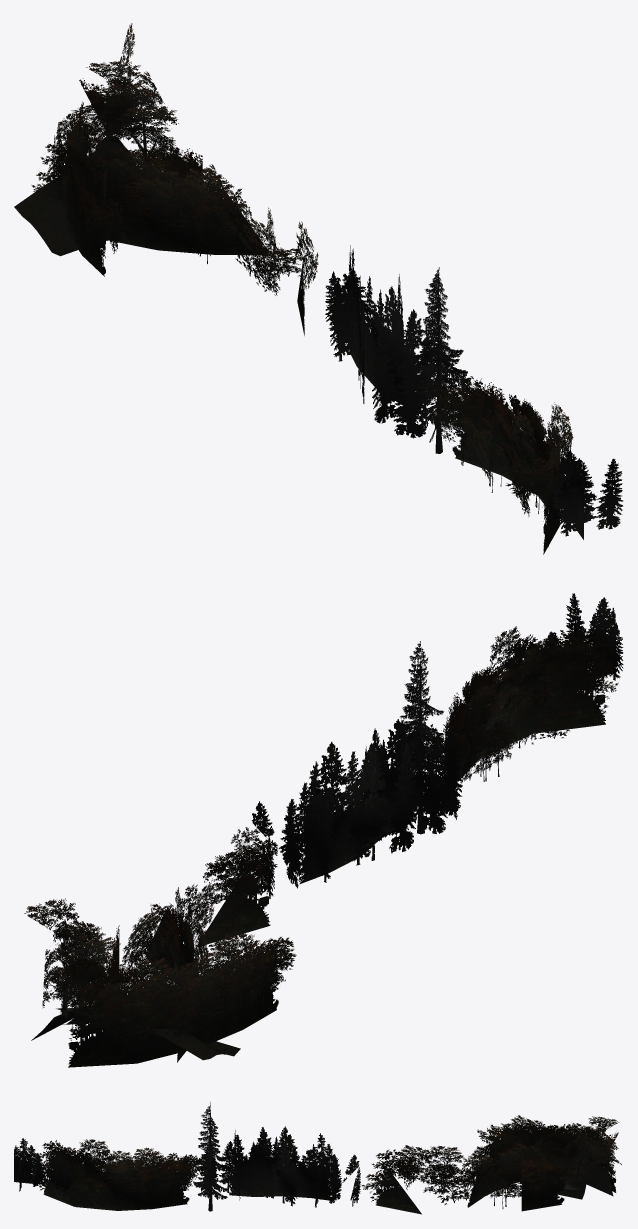
Rendered from cell_9_-9.gltf.
3 renders of one model, top to bottom at view 1: azimuth 30°, elevation 25°; view 2: azimuth 150°, elevation 25°; view 3: azimuth 270°, elevation 25°, orthographic. The views are drawn at different scales.
Parts seen in each view (by area): view 1: cell_9_-9; view 2: cell_9_-9; view 3: cell_9_-9.
Boxes of the visible parts, x1,y1,x2,y2 form: cell_9_-9: (14, 23, 623, 554); cell_9_-9: (24, 593, 623, 1067); cell_9_-9: (14, 1102, 621, 1214).
Bounding box in the file's own units: 51.91 × 53.14 × 265.
11 materials, 11 textured.
